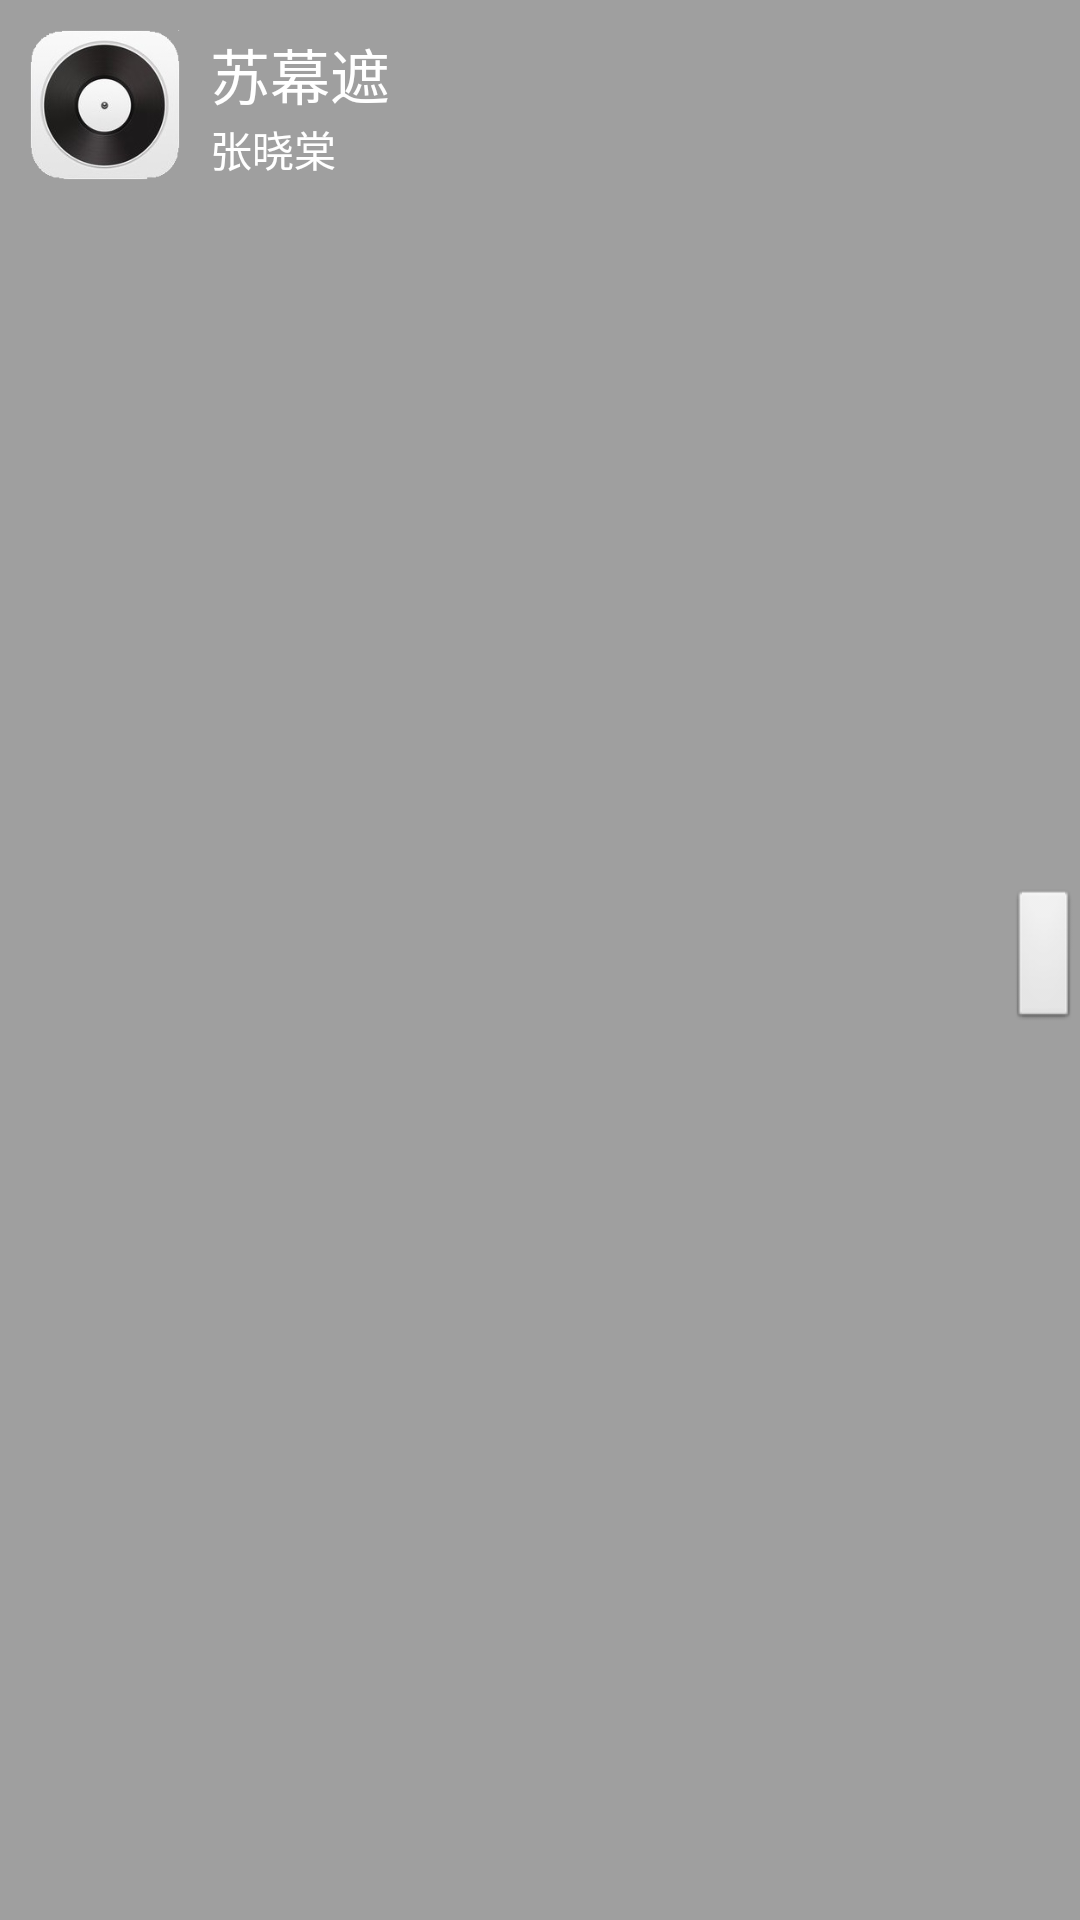

Named icons in this screenshot (1080px x 1920px) and their bounding boxes, [x1=x1, y1=y1, x2=x2, y2=y2]:
music: [x1=31, y1=30, x2=179, y2=179]
